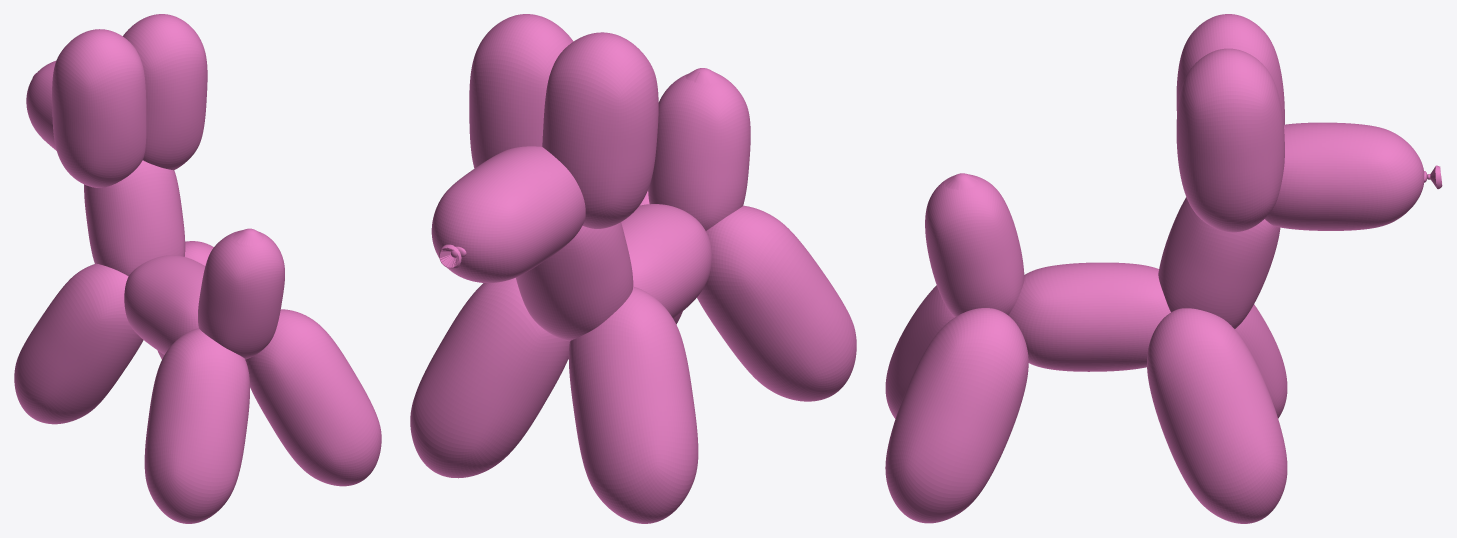
File: baloon.fbx
3 views of the same model, side by side, from view 1: azimuth 30°, elevation 25°; view 2: azimuth 150°, elevation 25°; view 3: azimuth 270°, elevation 25° (orthographic). The views are drawn at different scales.
Visible parts, largest first — view 1: Roundcube.002, Roundcube.003, Roundcube, Roundcube.008, Roundcube.007, Roundcube.005, Roundcube.009, Roundcube.004, Roundcube.006, Roundcube.001, Roundcube.010; view 2: Roundcube, Roundcube.002, Roundcube.001, Roundcube.008, Roundcube.006, Roundcube.009, Roundcube.007, Roundcube.005, Roundcube.004; view 3: Roundcube.003, Roundcube.001, Roundcube.007, Roundcube.004, Roundcube.006, Roundcube.009, Roundcube.005, Roundcube.008, Roundcube.002, Roundcube.
Boxes of the visible parts, x1,y1,x2,y2 form: Roundcube.002: [144, 328, 249, 523]; Roundcube.003: [245, 309, 381, 486]; Roundcube: [14, 263, 143, 424]; Roundcube.008: [52, 29, 146, 187]; Roundcube.007: [123, 14, 207, 170]; Roundcube.005: [84, 160, 185, 275]; Roundcube.009: [198, 230, 284, 359]; Roundcube.004: [124, 255, 205, 354]; Roundcube.006: [26, 61, 56, 150]; Roundcube.001: [157, 241, 213, 359]; Roundcube.010: [232, 228, 263, 247]; Roundcube: [568, 286, 698, 523]; Roundcube.002: [697, 205, 856, 401]; Roundcube.001: [410, 278, 569, 478]; Roundcube.008: [542, 32, 658, 228]; Roundcube.006: [431, 146, 585, 282]; Roundcube.009: [648, 74, 750, 230]; Roundcube.007: [469, 14, 573, 168]; Roundcube.005: [516, 222, 633, 341]; Roundcube.004: [621, 204, 712, 318]; Roundcube.003: [885, 308, 1028, 523]; Roundcube.001: [1147, 308, 1287, 523]; Roundcube.007: [1176, 48, 1284, 232]; Roundcube.004: [1008, 262, 1170, 371]; Roundcube.006: [1265, 122, 1424, 230]; Roundcube.009: [925, 175, 1024, 317]; Roundcube.005: [1158, 197, 1280, 328]; Roundcube.008: [1176, 14, 1284, 124]; Roundcube.002: [885, 285, 954, 418]; Roundcube: [1235, 304, 1287, 418].
Size of the model in its own units: 399 by 655 by 754.
